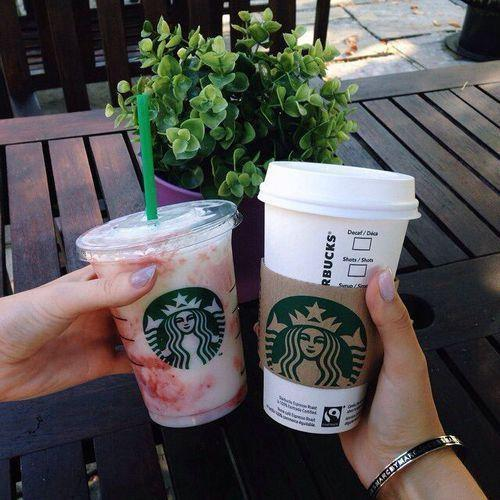cup-disposable: (255, 159, 422, 436), (74, 197, 250, 428)
